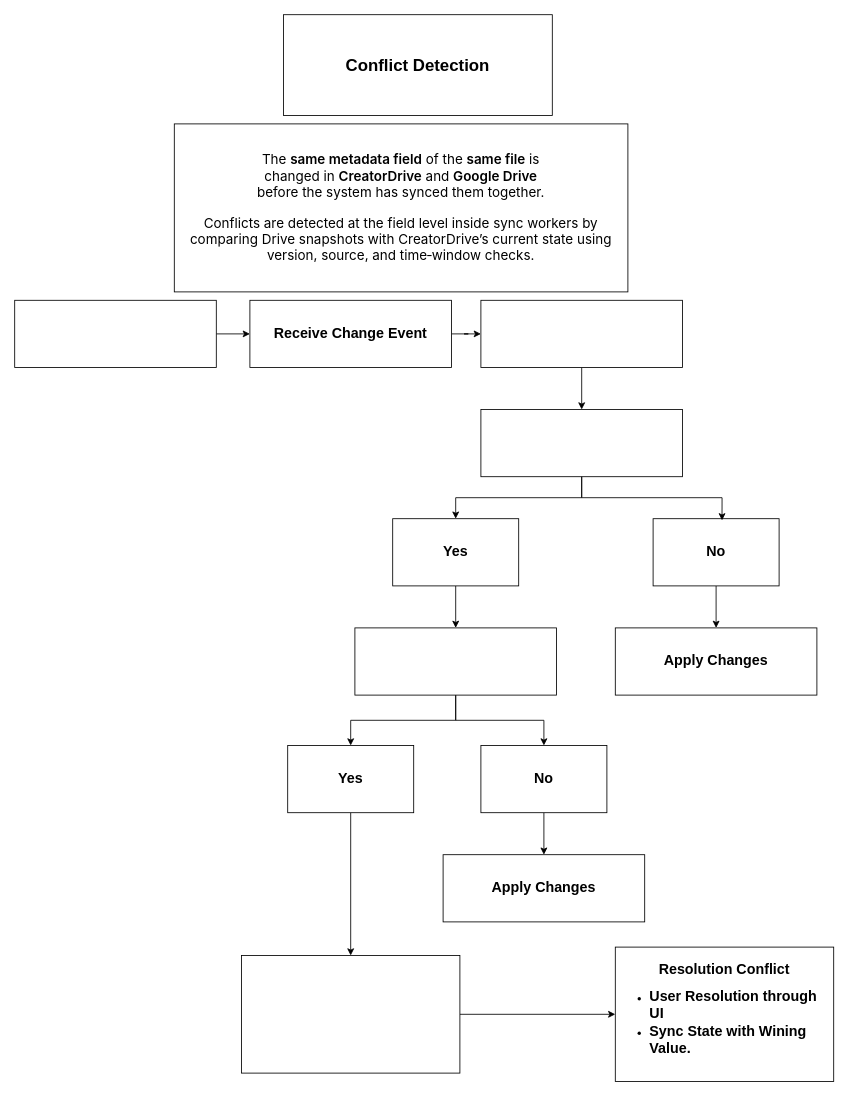
The diagram is 848 pixels wide and 1096 high, and some of its shapes have lost their labels. Here are the shapes that lost their labels. From the top down, the box of each, then its label:
(14, 299, 216, 368): Sync Workers
(480, 299, 682, 368): Load Current Metadata
(480, 409, 682, 477): Is Same Field Modified?
(354, 627, 556, 695): Overlapping Time Window?
(241, 955, 460, 1073): Create Conflict Markstate as conflict Create its own conflict schema
